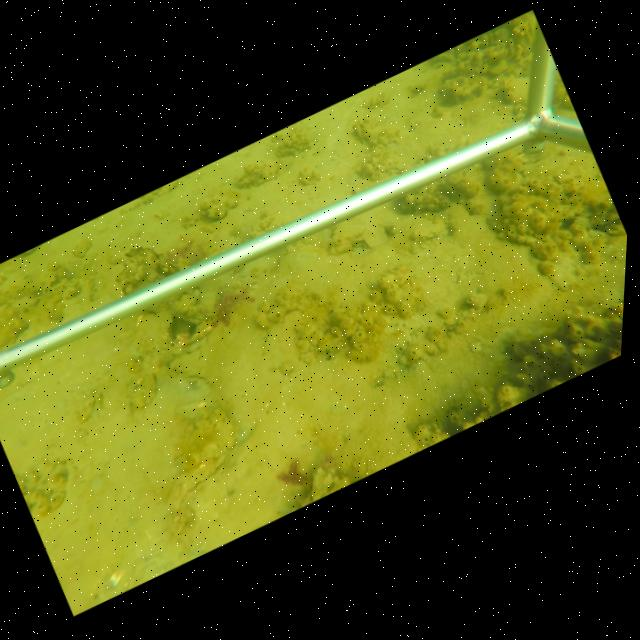Oyster-Closed: (159, 367, 240, 522), (122, 307, 173, 412), (396, 217, 444, 243)
